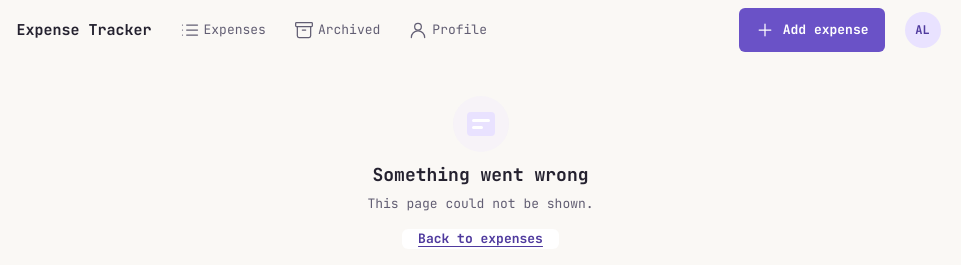
Scenario: Layout › keeps the nav and shows a fallback when a page throws, and recovers on navigation
Expected: the heading "Something went wrong" is shown, [372, 164, 588, 186]
Expected: the navigation bar named "Main" is shown, [180, 20, 487, 40]
Click the link "Back to expenses".
click(480, 239)  # box [402, 229, 559, 249]
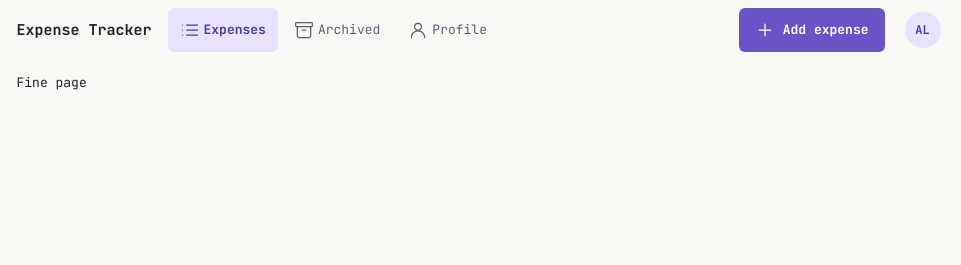
Now the text "Fine page" is shown, box [16, 74, 87, 91]
Now the heading "Something went wrong" is gone
